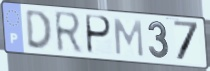3: (147, 19, 171, 61)
7: (172, 19, 201, 65)
D: (24, 9, 54, 53)
M: (112, 17, 146, 59)
P: (86, 13, 113, 56)
R: (52, 9, 84, 56)
